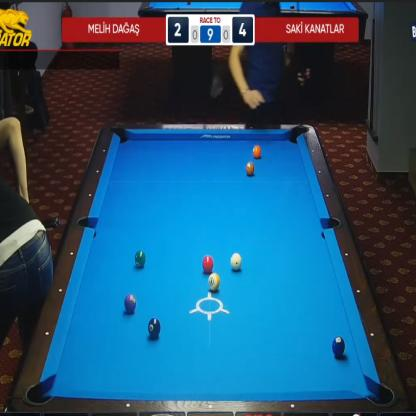Ball: (147, 317, 161, 338), (332, 336, 346, 357), (124, 294, 136, 314), (134, 249, 146, 268), (230, 252, 242, 271), (202, 256, 214, 274), (208, 273, 220, 291), (245, 162, 255, 176), (252, 144, 261, 158)
